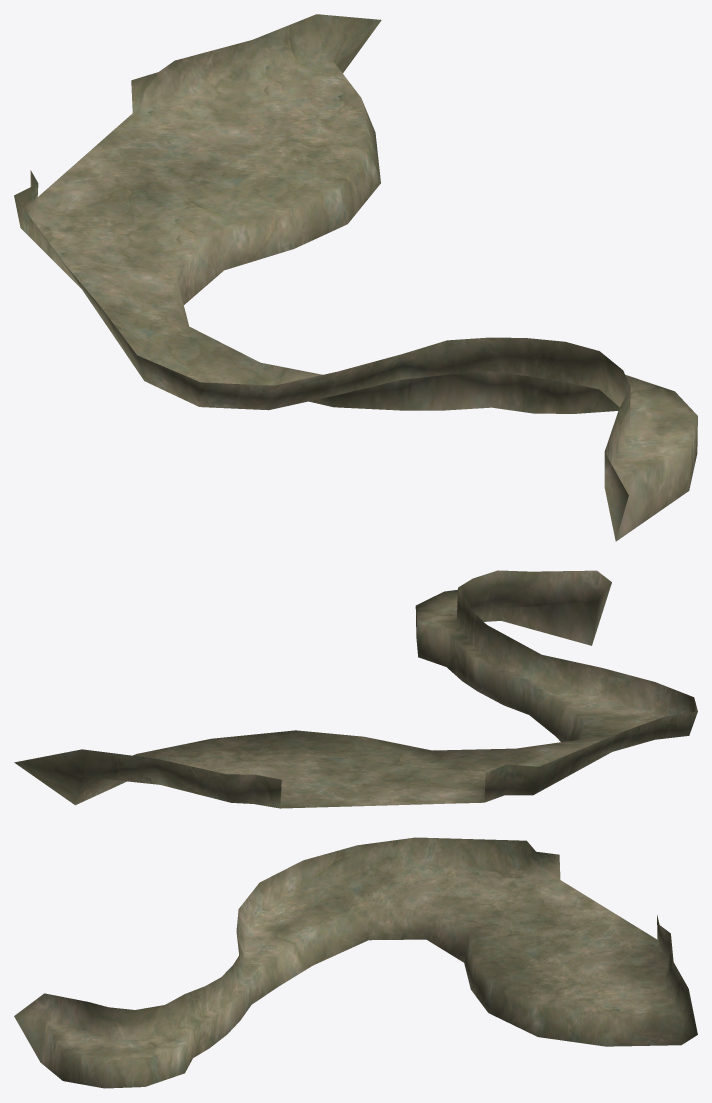
File: EKH_CAVERNS_PS_CA_OBJECT09.fbx
3 views of the same model, one above another, from view 1: azimuth 30°, elevation 25°; view 2: azimuth 150°, elevation 25°; view 3: azimuth 270°, elevation 25° (orthographic). The views are drawn at different scales.
Visible parts, largest first — view 1: EKH_CAVERNS_PS_CA_OBJECT09; view 2: EKH_CAVERNS_PS_CA_OBJECT09; view 3: EKH_CAVERNS_PS_CA_OBJECT09.
Boxes of the visible parts, x1=… form: EKH_CAVERNS_PS_CA_OBJECT09: x1=14, y1=14, x2=697, y2=541; EKH_CAVERNS_PS_CA_OBJECT09: x1=14, y1=570, x2=697, y2=808; EKH_CAVERNS_PS_CA_OBJECT09: x1=14, y1=837, x2=697, y2=1088.
Bounding box in the file's own units: 78906 × 24959 × 123892.
1 material, 1 textured.
